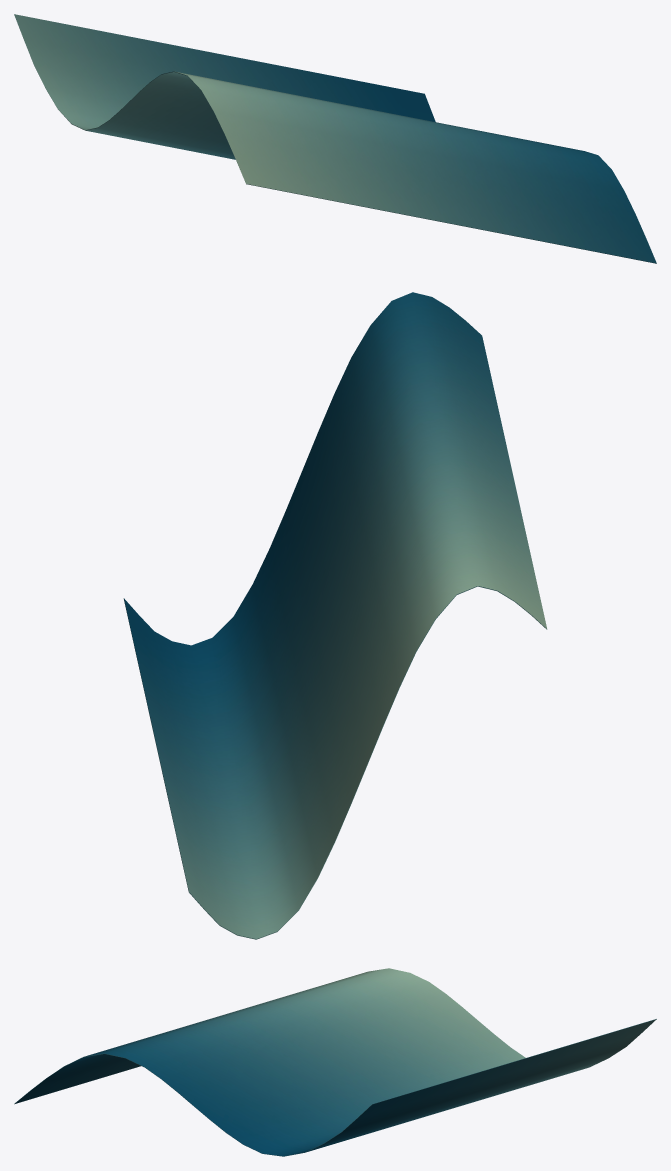
File: y=sin(x+k) menor recorrido.fbx
The picture shows the model from 3 angles, top to bottom: view 1: azimuth 30°, elevation 25°; view 2: azimuth 150°, elevation 25°; view 3: azimuth 270°, elevation 25°; orthographic projection. The views are drawn at different scales.
Visible parts, largest first — view 1: y_sin_x_k__k_menor_0_recorrido:Mesh; view 2: y_sin_x_k__k_menor_0_recorrido:Mesh; view 3: y_sin_x_k__k_menor_0_recorrido:Mesh.
Boxes of the visible parts, bbox=[...] form: y_sin_x_k__k_menor_0_recorrido:Mesh: bbox=[14, 14, 656, 263]; y_sin_x_k__k_menor_0_recorrido:Mesh: bbox=[123, 292, 547, 939]; y_sin_x_k__k_menor_0_recorrido:Mesh: bbox=[14, 968, 656, 1156].
Bounding box in the file's own units: 14.22 × 8.01 × 45.23.
